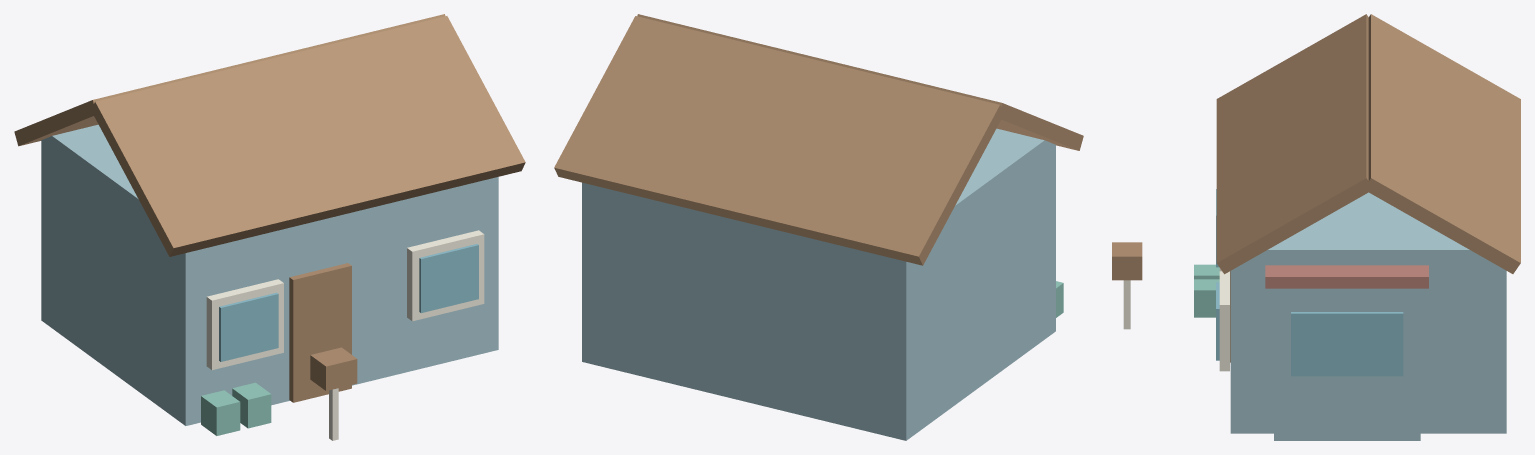
File: home-01.glb
3 renders of one model, left to right at view 1: azimuth 30°, elevation 25°; view 2: azimuth 150°, elevation 25°; view 3: azimuth 270°, elevation 25°, orthographic. The views are drawn at different scales.
Parts seen in each view (by area): view 1: front door.001, individual walls.001, bay glass, letterbox post.001, flower planter.001; view 2: individual walls.001, front door.001; view 3: front door.001, individual walls.001, bay glass, bay cap, letterbox post.001, flower planter.001.
Part boxes in pixels (bbox=[...]): front door.001: bbox=[14, 14, 525, 402]; individual walls.001: bbox=[41, 124, 498, 425]; bay glass: bbox=[219, 244, 478, 361]; letterbox post.001: bbox=[206, 230, 484, 440]; flower planter.001: bbox=[201, 382, 271, 435]; individual walls.001: bbox=[582, 128, 1055, 440]; front door.001: bbox=[554, 14, 1083, 265]; front door.001: bbox=[1112, 14, 1520, 362]; individual walls.001: bbox=[1230, 192, 1506, 440]; bay glass: bbox=[1216, 189, 1403, 376]; bay cap: bbox=[1265, 265, 1428, 288]; letterbox post.001: bbox=[1123, 268, 1229, 371]; flower planter.001: bbox=[1194, 264, 1219, 317].
Size of the model in its own units: 4.57 by 3.39 by 4.74.
